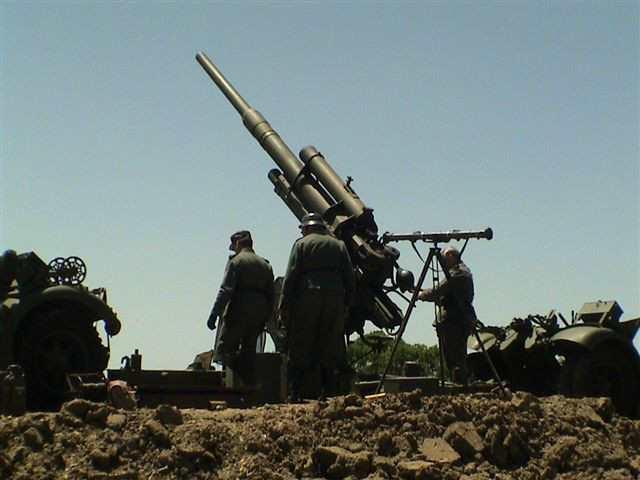MIL_SPG: (198, 52, 492, 376)
